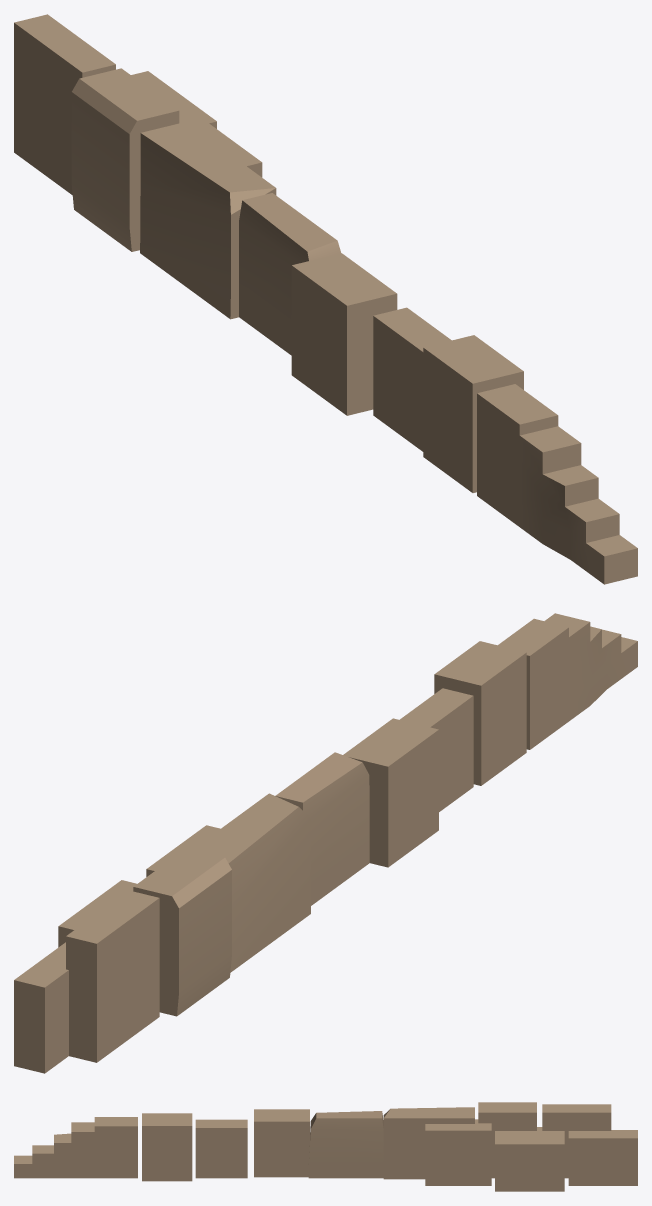
The model's file is ston wall.FBX.
3 views of the same model, one above another, from view 1: azimuth 30°, elevation 25°; view 2: azimuth 150°, elevation 25°; view 3: azimuth 270°, elevation 25° (orthographic). The views are drawn at different scales.
Visible parts, largest first — view 1: ston wall001; view 2: ston wall001; view 3: ston wall001.
Boxes of the visible parts, box(x1,y1,x2,y2) form: ston wall001: box(14, 14, 637, 584); ston wall001: box(14, 613, 637, 1073); ston wall001: box(14, 1102, 637, 1191).
Size of the model in its own units: 5.9 by 6.77 by 58.24.
